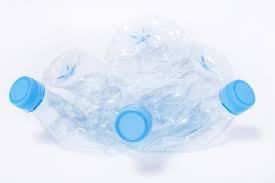plastic: (22, 23, 239, 154)
